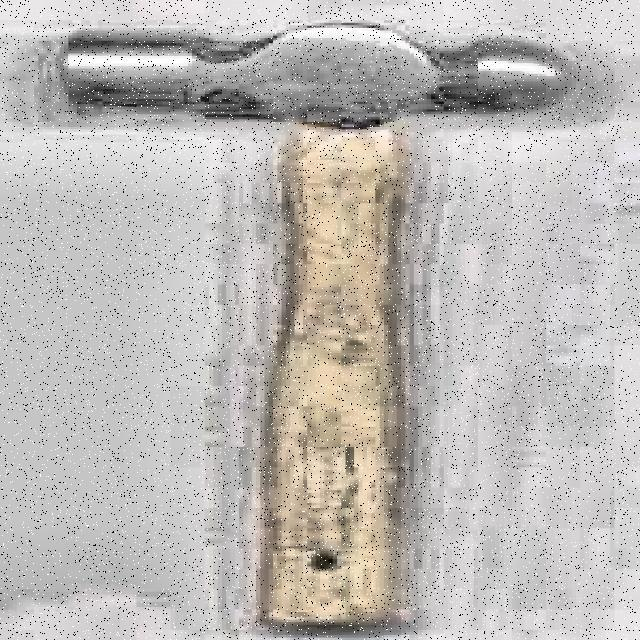hammer: (62, 22, 587, 632)
